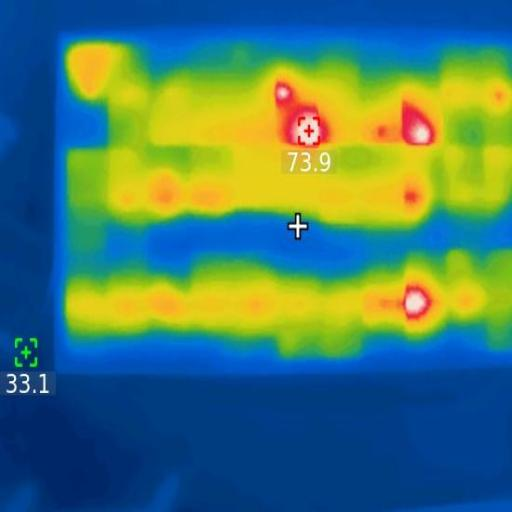hotspot: (400, 102, 438, 144), (284, 109, 326, 145), (406, 280, 428, 322), (276, 83, 290, 107)
